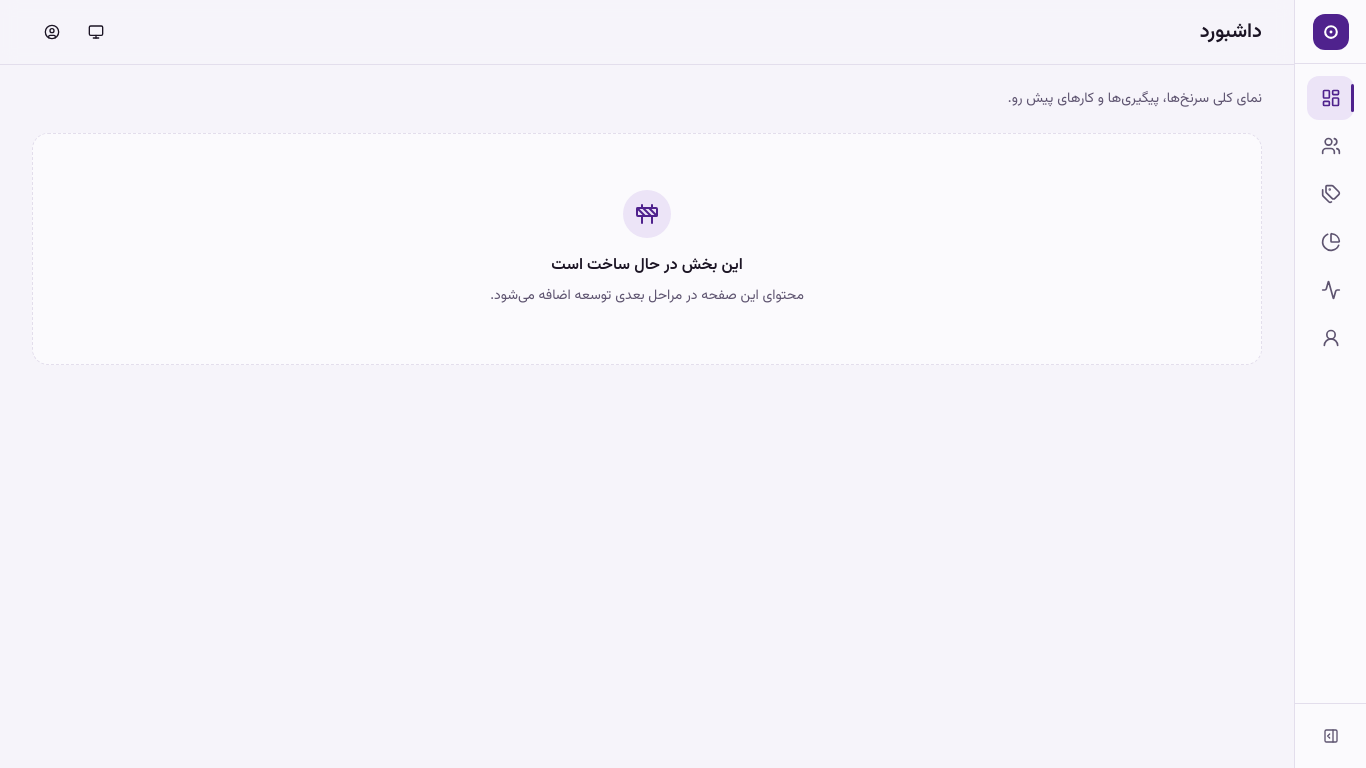
it: AppLayout › uses an overlay on tablets that closes after navigating
This screenshot has width=1366, height=768.
Expected: the heading "داشبورد" is shown, [1200,16,1262,48]
Click the button named "باز کردن نوار کناری".
click(1330, 736)  # box [1310,716,1350,756]
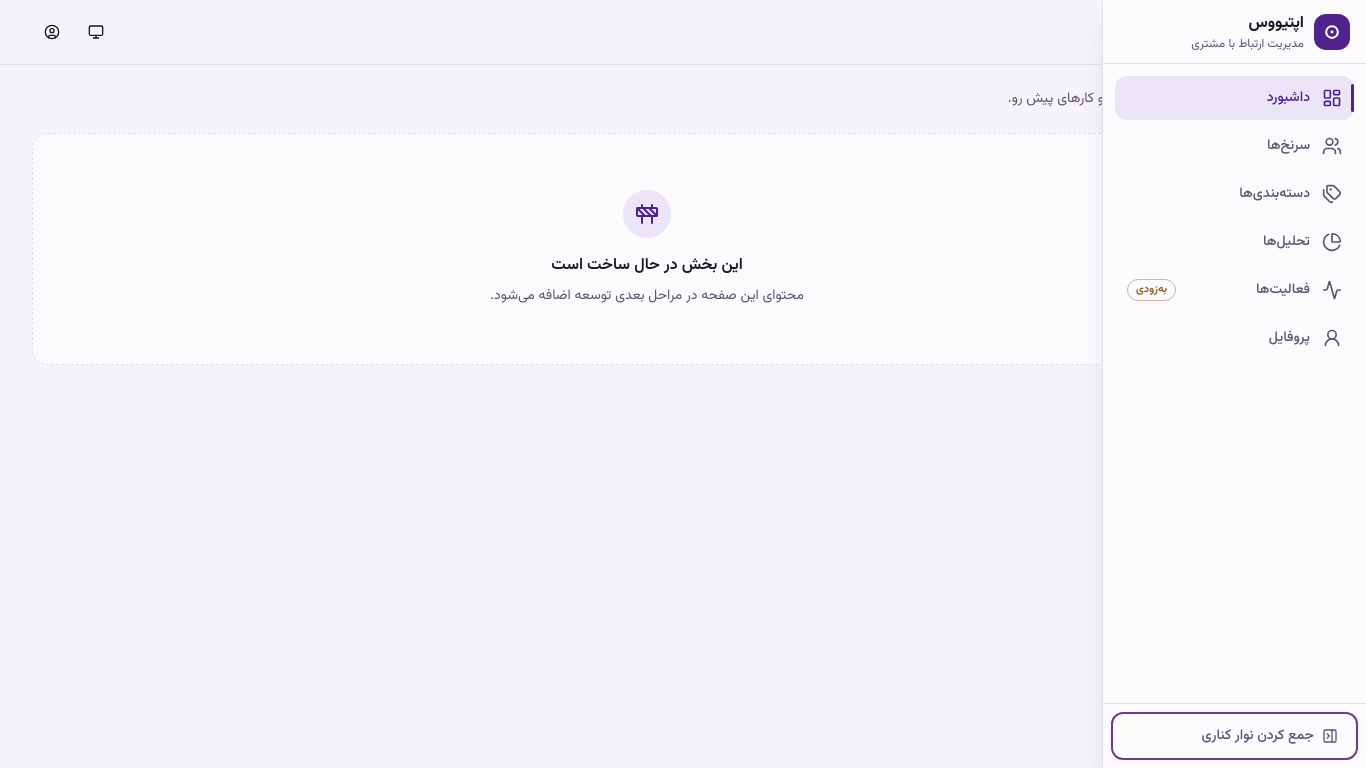
Expected: the button named "باز کردن نوار کناری" is expanded, [1115,716,1354,756]
Click the link "دسته‌بندی‌ها".
click(1291, 194)  # box [1239,183,1342,205]
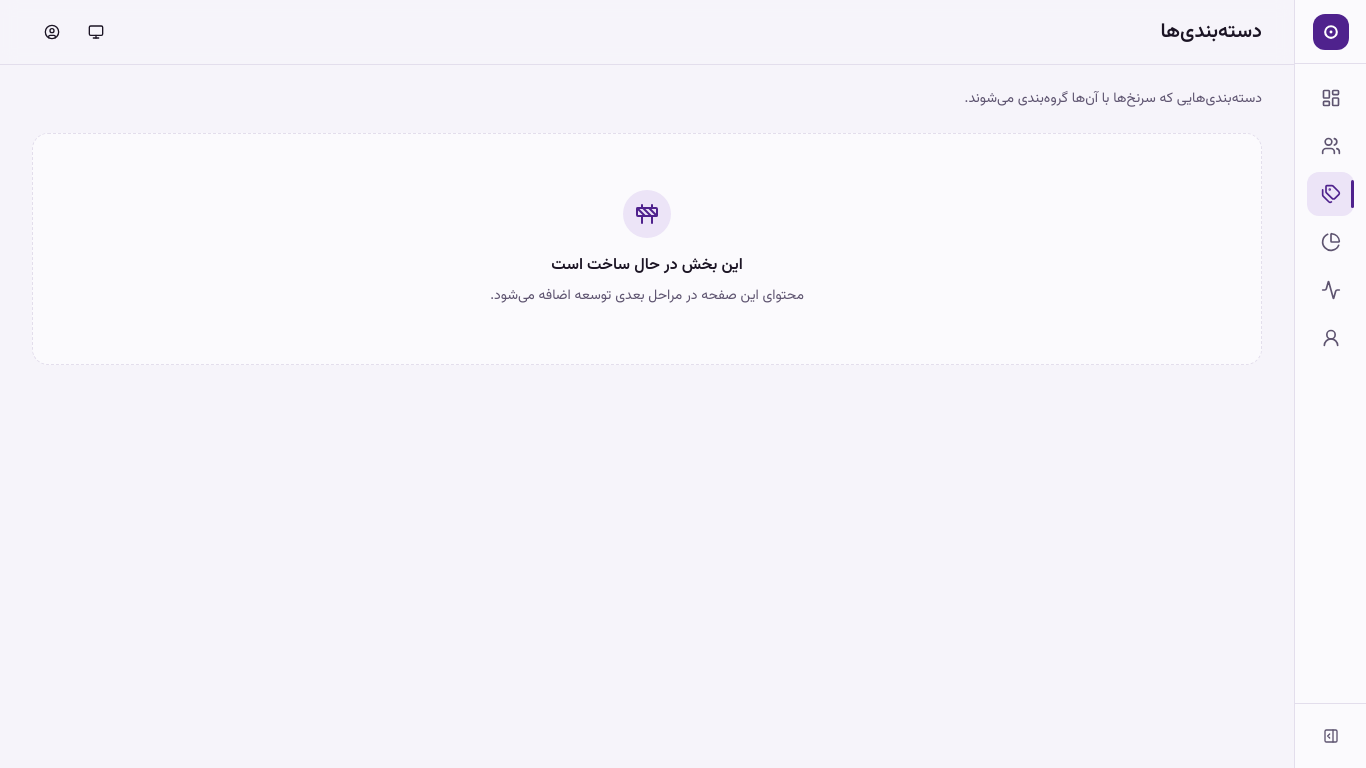
Expected: the button named "باز کردن نوار کناری" is collapsed, [1310,716,1350,756]
